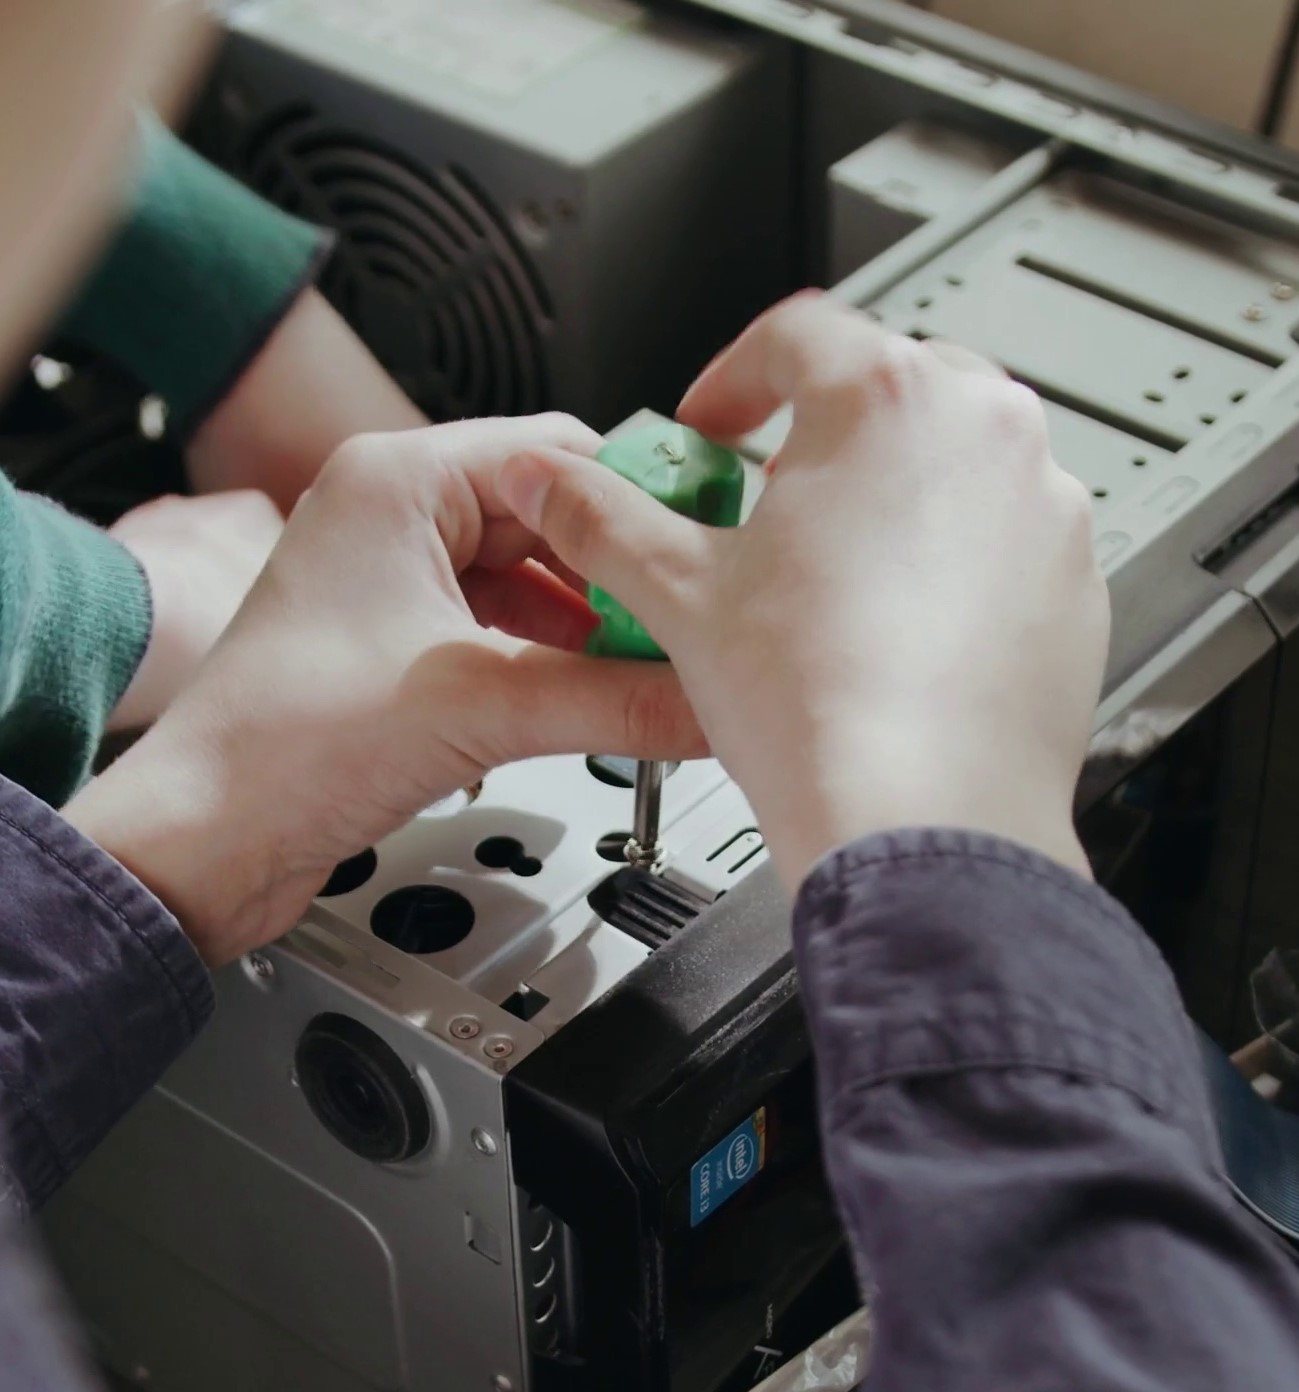screwdriver: (574, 397, 747, 855)
